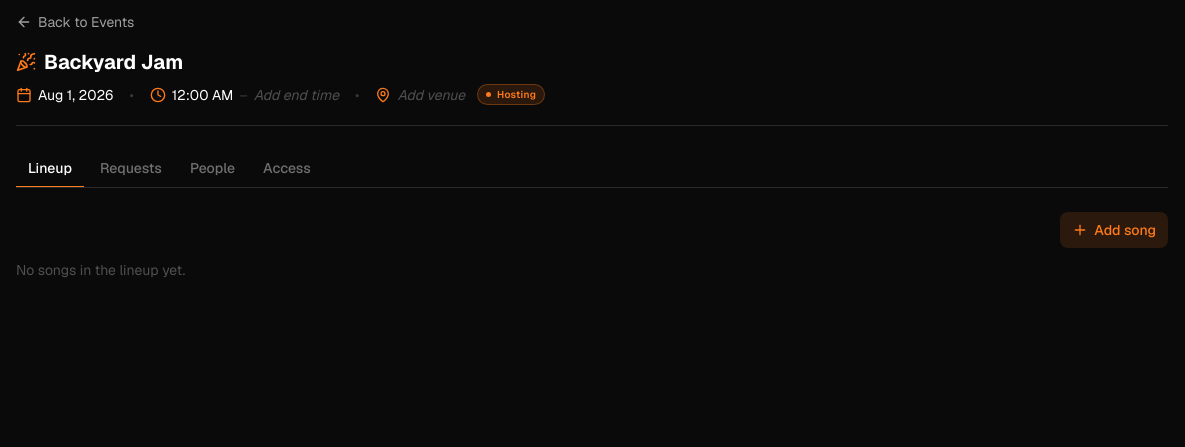
Test case: EventDetailPage — People tab remove / leave (I) › gives a manager a Remove action for a non-host participant
The image size is (1185, 447).
Click the button with test id "event-tab-people" at (212, 169), box [178,150,247,188]
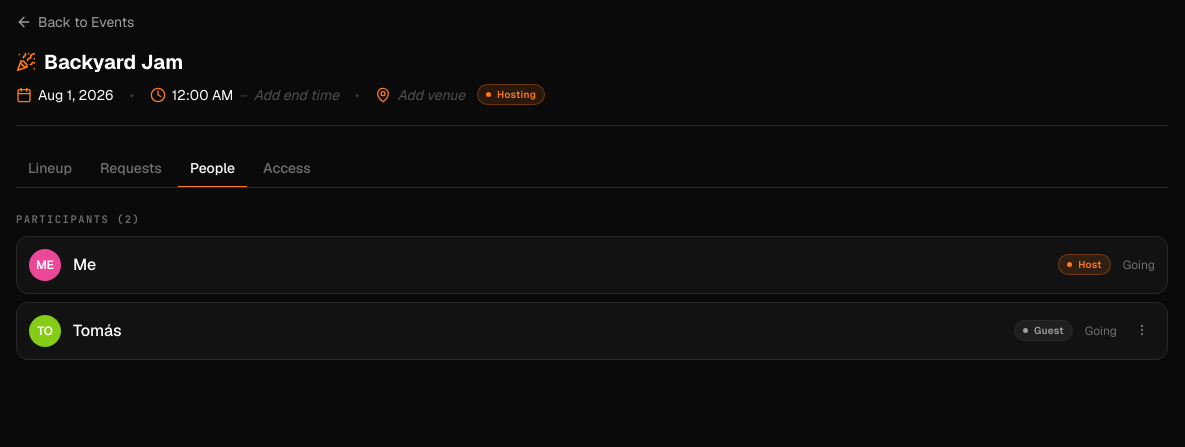
Click the button with test id "event-person-actions-u2" at (1142, 330), box [1129,317,1155,343]
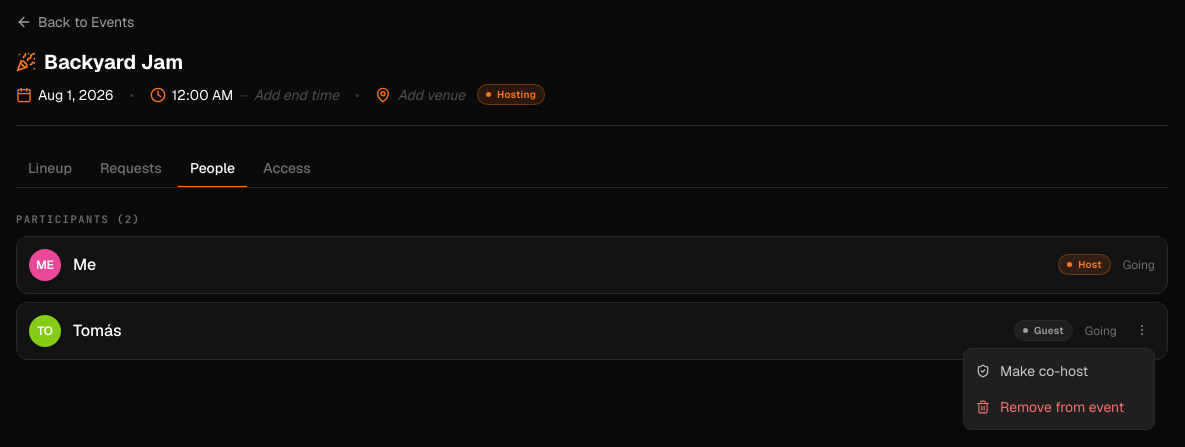
Expected: the menu item with test id "event-person-remove-u2" is shown, [964,389,1154,425]
